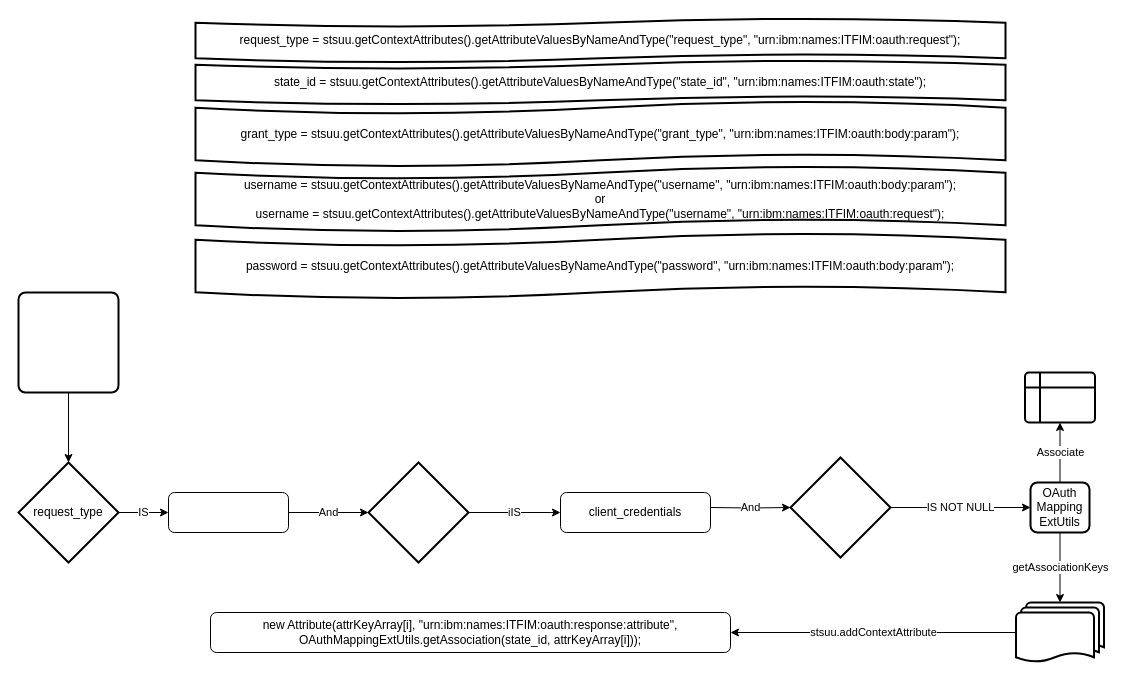
Some shapes in this 1125 by 680 pixel diagram are drawn without their labels. Here are the shapes that lost their labels. From the top down, the centre of each, then its label:
point (68, 342): Client_ Credentials_ Demo
point (228, 512): access_token
point (418, 512): grant_type
point (840, 507): state_id
point (1059, 632): attrKeyArray
